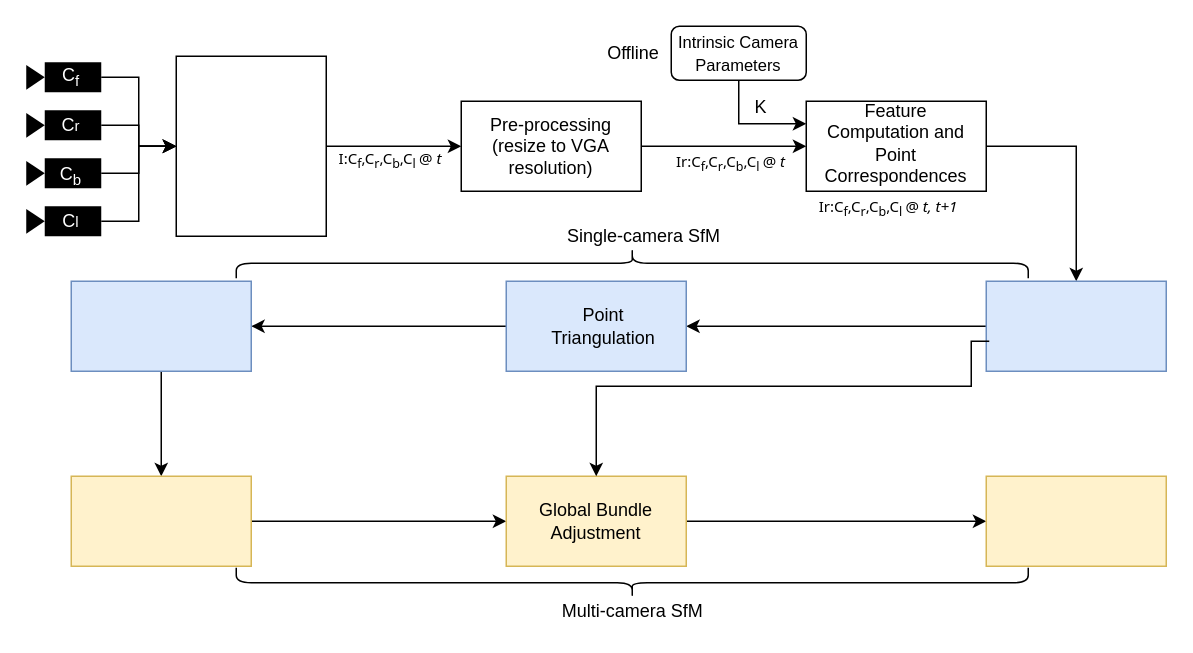
The diagram is 1193 pixels wide and 653 high, and some of its shapes have lost their labels. Here are the shapes that lost their labels. From the top down, the centre of each, then its label:
At point 250,145: "Synchronise using time stamps".
At point 160,325: "Local Bundle Adjustment".
At point 1075,325: "Camera Pose Estimation".
At point 160,520: "Inter Camera Correspondence".
At point 1075,520: "3D Point Cloud".
